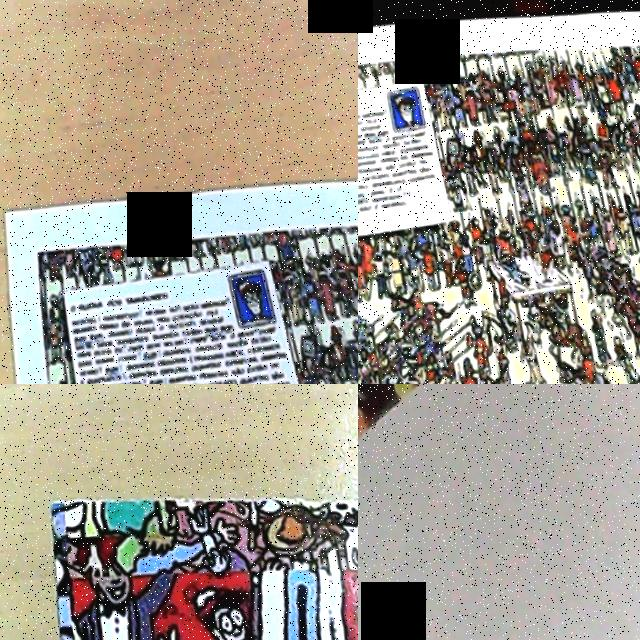waldo: (173, 573, 255, 640), (225, 274, 262, 320), (389, 90, 417, 128)
